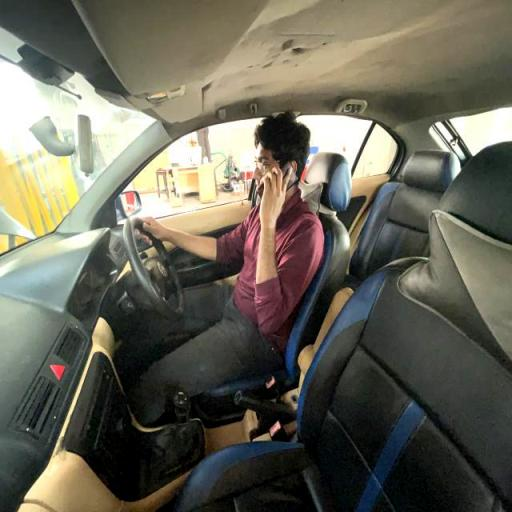Talking_on_phone: (141, 108, 326, 359)
